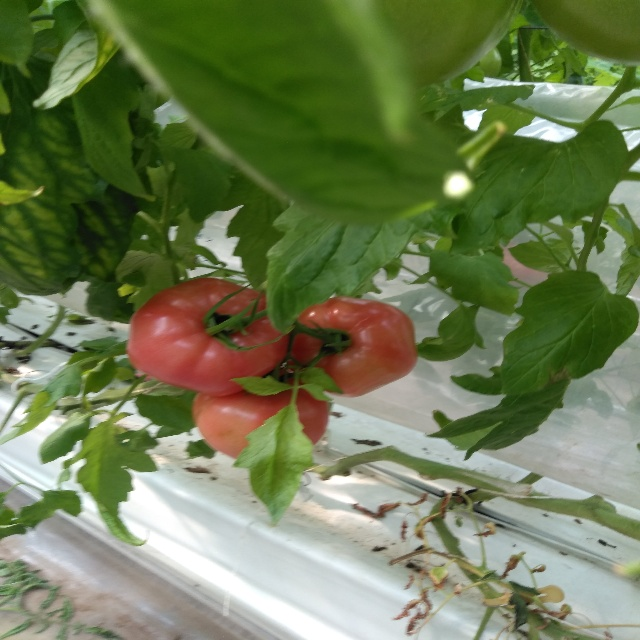b_fully_ripened: (127, 278, 294, 396), (286, 297, 418, 398), (191, 368, 328, 465)
b_green: (366, 1, 523, 87), (530, 1, 640, 67)
